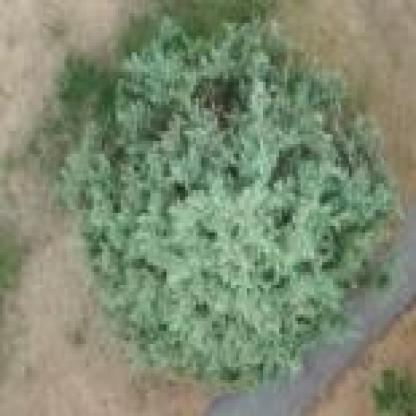Coniferous Tree: (67, 26, 405, 361)
